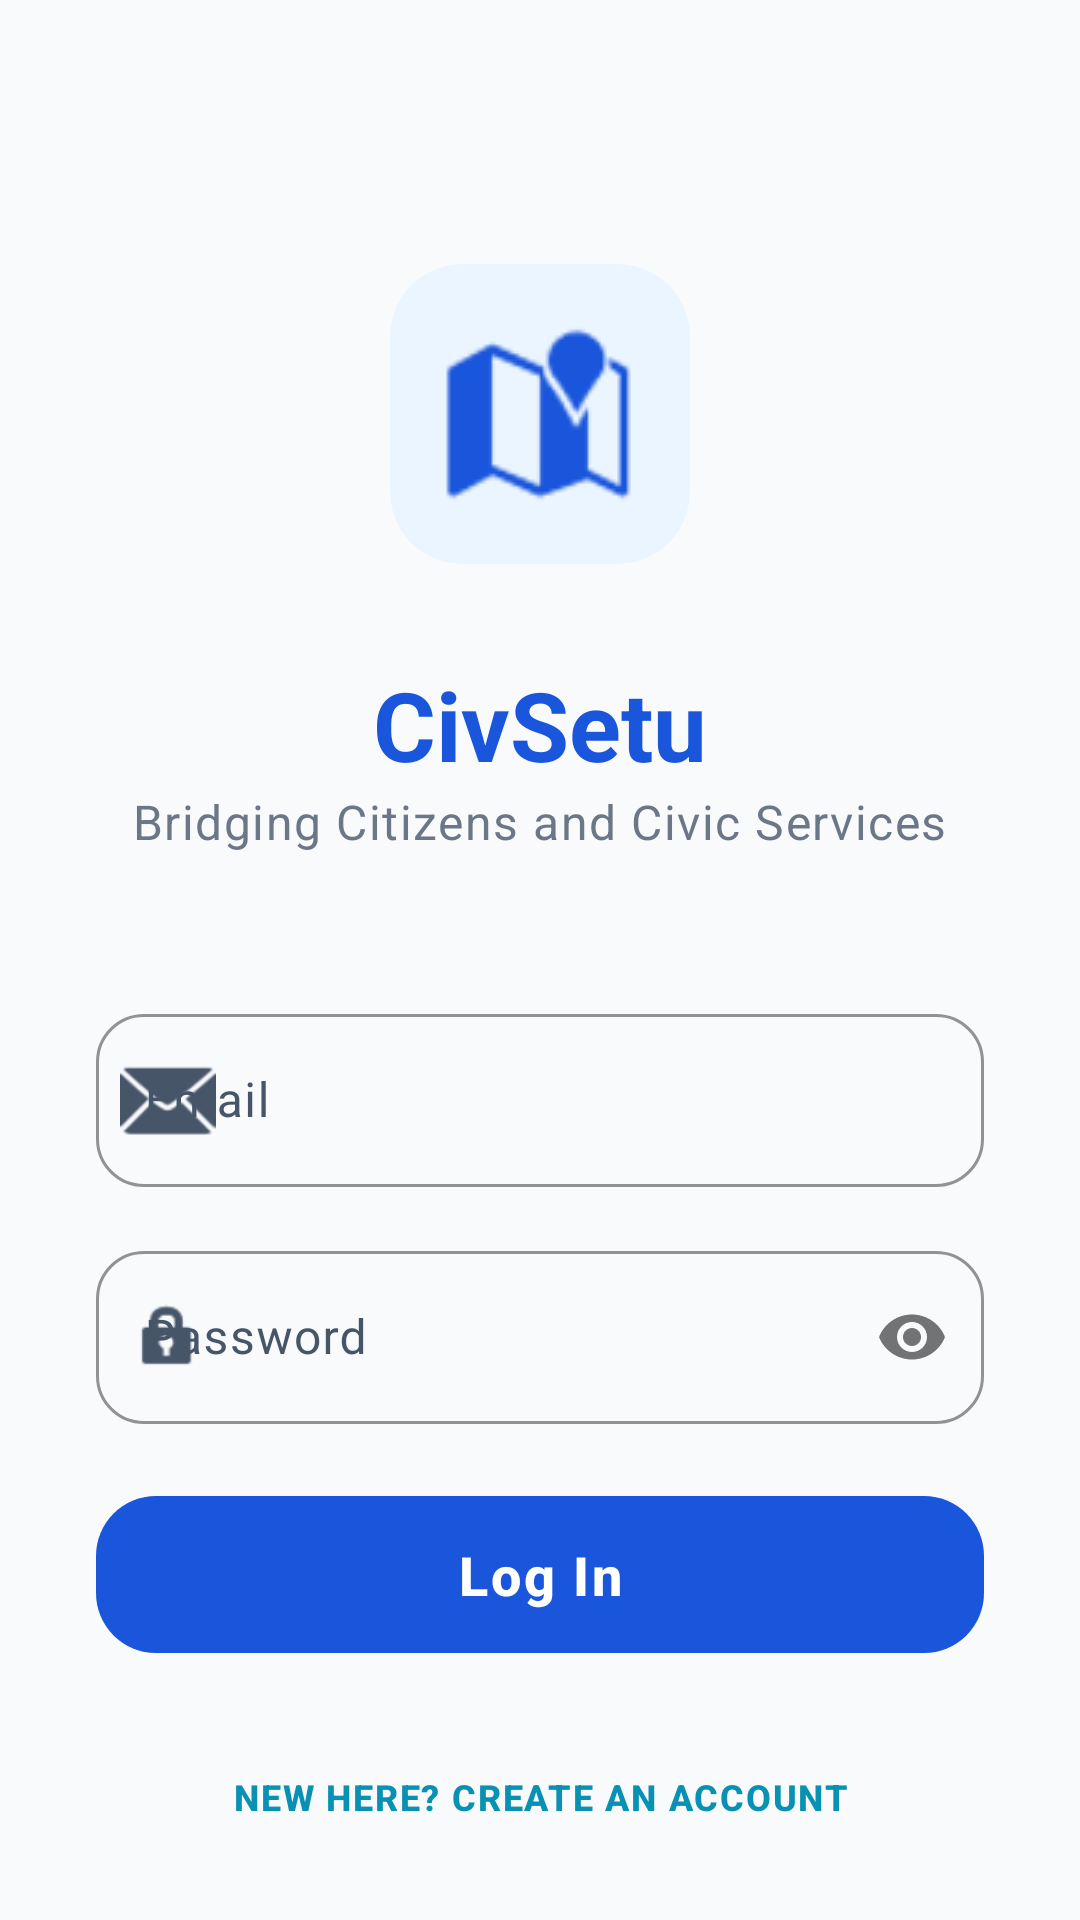

Where to tap for icons on this 1080*1920 app screen, as (x=x, y=y):
map: (x=538, y=414)
